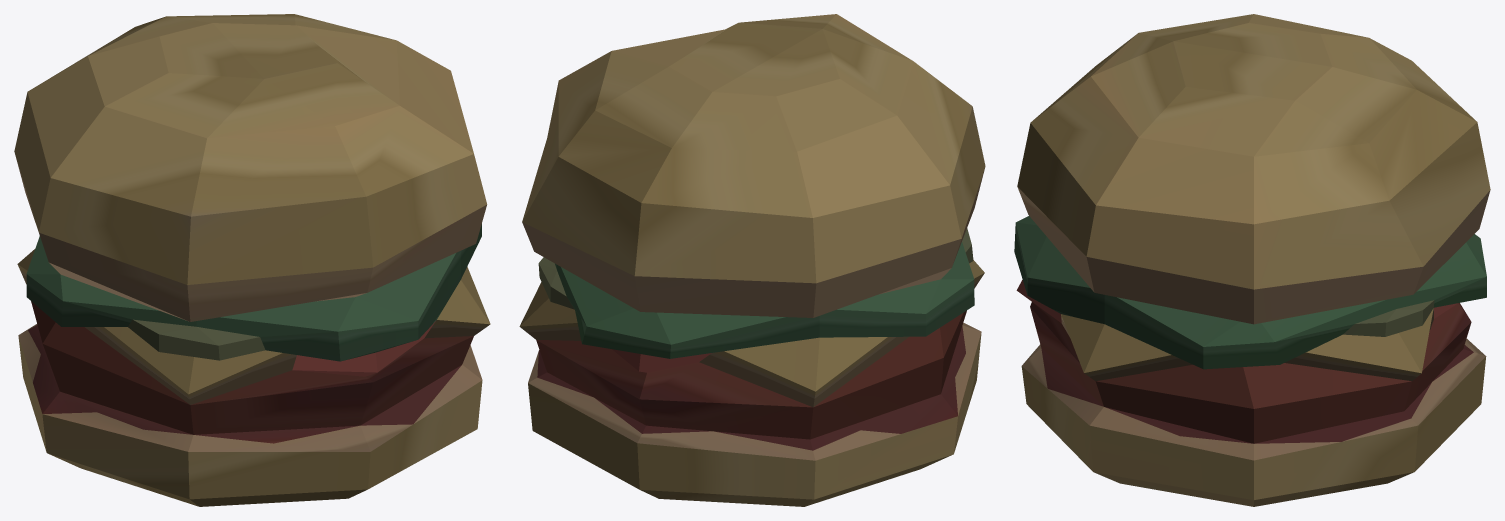
Rendered from burger.glb.
3 views of the same model, side by side, from view 1: azimuth 30°, elevation 25°; view 2: azimuth 150°, elevation 25°; view 3: azimuth 270°, elevation 25° (orthographic). The views are drawn at different scales.
Parts seen in each view (by area): view 1: SM_Prop_Burger_01; view 2: SM_Prop_Burger_01; view 3: SM_Prop_Burger_01.
Part boxes in pixels (x1,y1,x2,y2): SM_Prop_Burger_01: (14, 14, 490, 506); SM_Prop_Burger_01: (519, 14, 985, 506); SM_Prop_Burger_01: (1014, 14, 1490, 506).
Size of the model in its own units: 21.37 by 18.56 by 21.5.
Materials: 1 (1 with a texture image).
